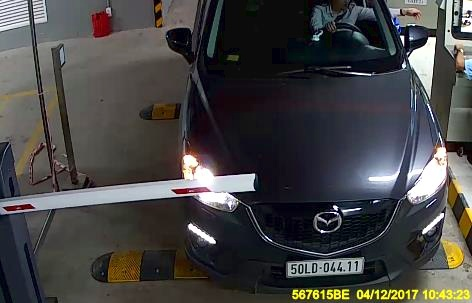plate: (284, 256, 364, 277)
